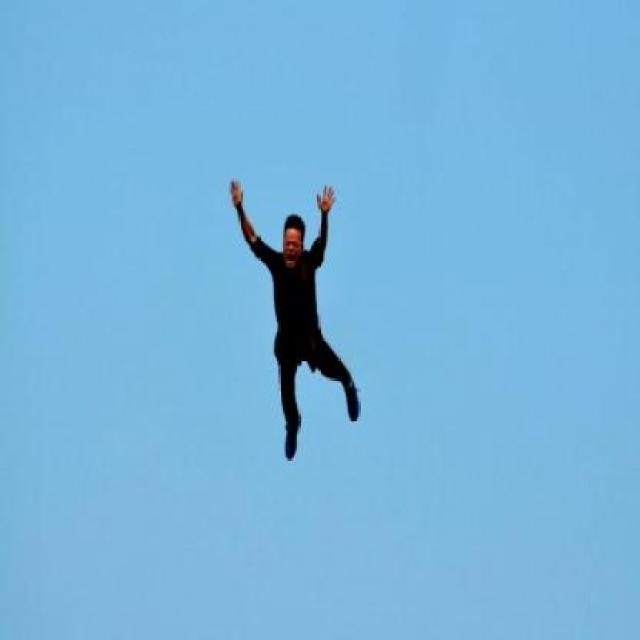fall: (229, 170, 366, 458)
